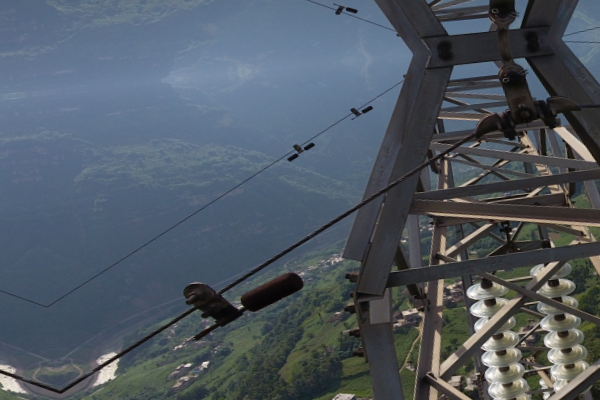damper: (285, 141, 316, 162)
damper_defect: (179, 260, 305, 344), (330, 2, 358, 18), (349, 104, 373, 121)
